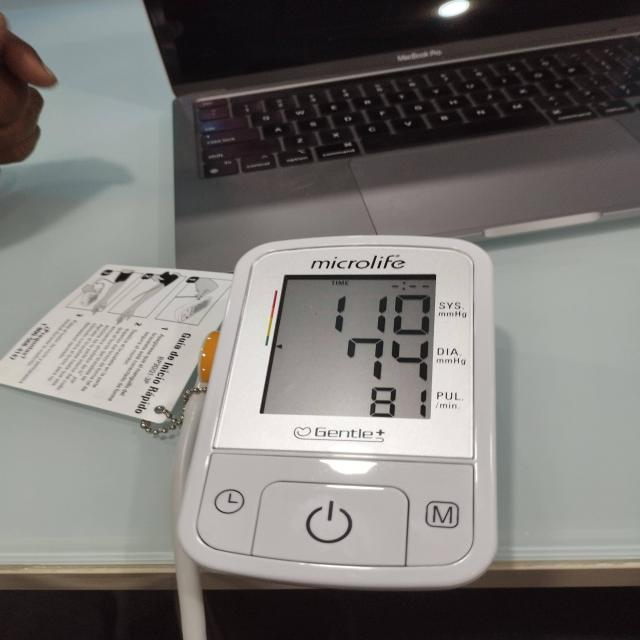bp: (175, 237, 499, 593)
